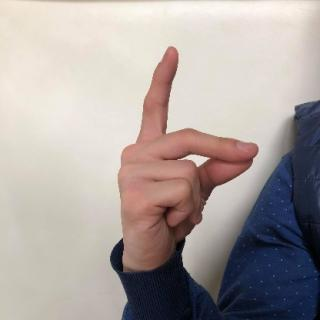TAA: (110, 39, 264, 271)
